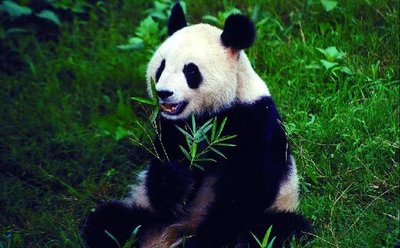panda: (100, 4, 308, 245)
